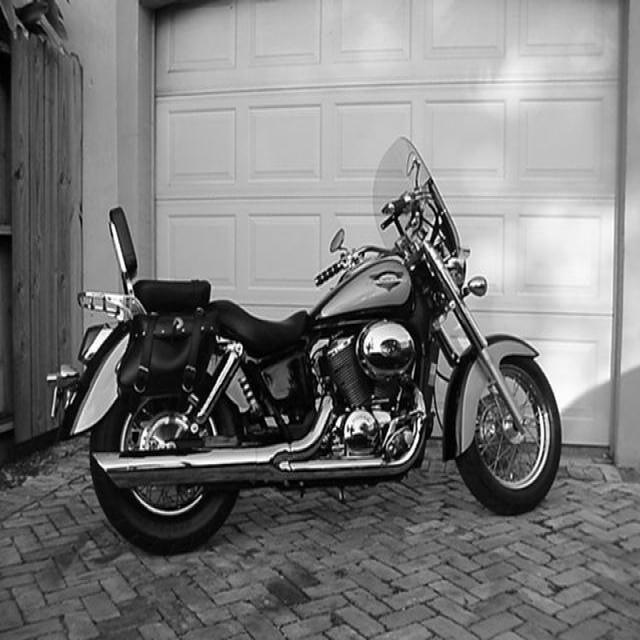Motorcycle: (50, 138, 562, 554)
